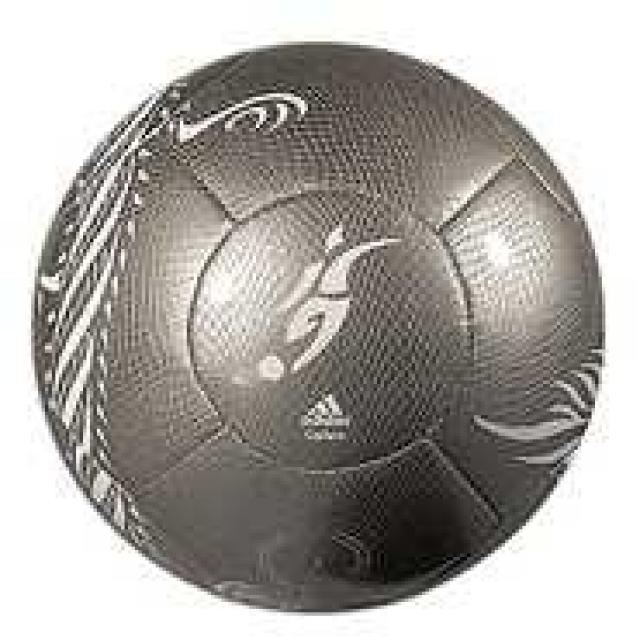ball: (35, 39, 608, 608)
